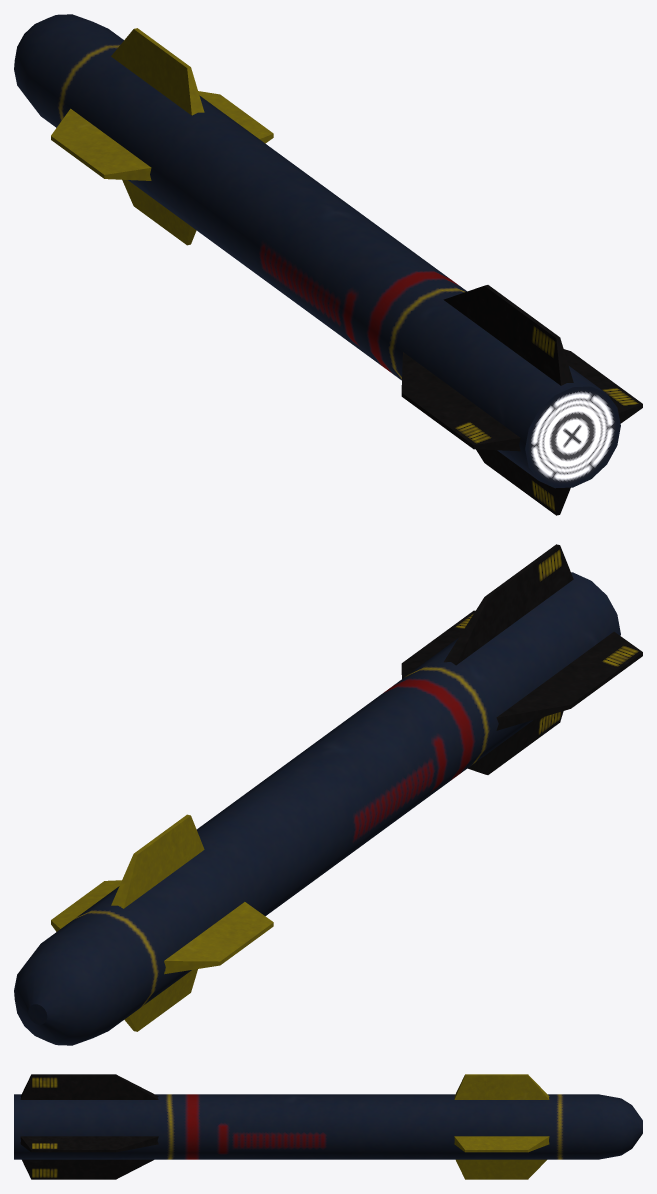
Rendered from missile_s_2.fbx.
3 renders of one model, top to bottom at view 1: azimuth 30°, elevation 25°; view 2: azimuth 150°, elevation 25°; view 3: azimuth 270°, elevation 25°, orthographic. The views are drawn at different scales.
Parts seen in each view (by area): view 1: missile_s_2; view 2: missile_s_2; view 3: missile_s_2.
Part boxes in pixels (box(x1,y1,x2,y2)): missile_s_2: box(14, 14, 642, 515); missile_s_2: box(14, 544, 642, 1045); missile_s_2: box(14, 1074, 642, 1179).
Size of the model in its own units: 1.06 by 1.06 by 5.8.
